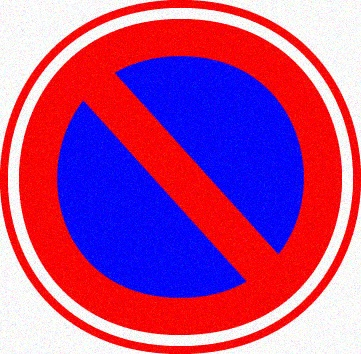Prohibition_sign: (4, 5, 353, 354)
